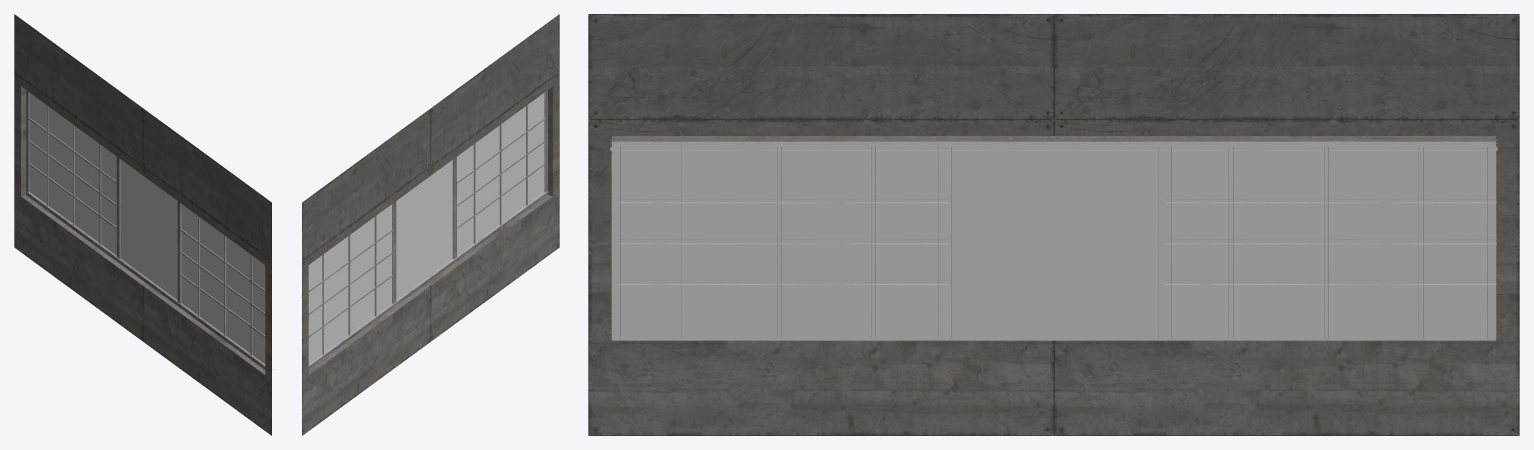
The model's file is CP_Showcase_B_8x4m_01.fbx.
3 views of the same model, side by side, from view 1: azimuth 30°, elevation 25°; view 2: azimuth 150°, elevation 25°; view 3: azimuth 270°, elevation 25° (orthographic). The views are drawn at different scales.
Visible parts, largest first — view 1: CP_Showcase_B_8x4m_01; view 2: CP_Showcase_B_8x4m_01; view 3: CP_Showcase_B_8x4m_01.
Part boxes in pixels (x1,y1,x2,y2): CP_Showcase_B_8x4m_01: [14, 14, 272, 435]; CP_Showcase_B_8x4m_01: [301, 14, 559, 435]; CP_Showcase_B_8x4m_01: [588, 14, 1519, 435].
Bounding box in the file's own units: 13.14 × 400 × 800.
